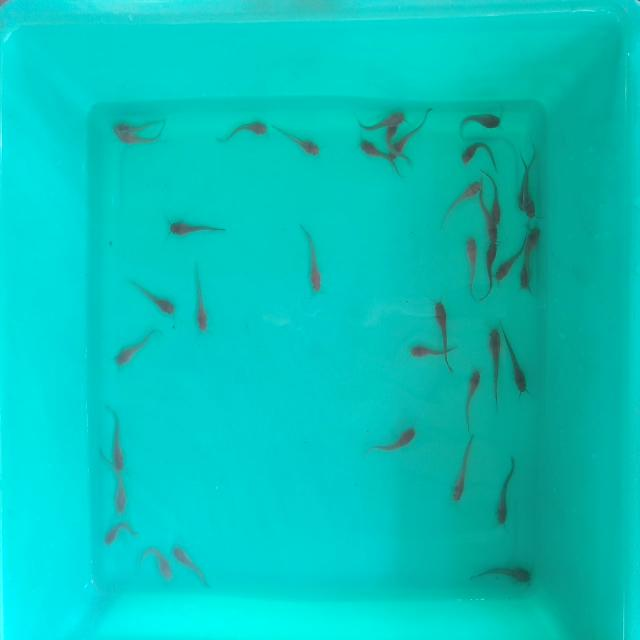lele: (438, 172, 484, 229), (126, 276, 180, 322), (268, 121, 324, 163), (497, 225, 535, 282), (173, 544, 215, 589), (115, 325, 159, 367), (368, 422, 422, 455), (506, 329, 530, 396), (300, 226, 323, 294), (452, 436, 474, 505), (486, 326, 503, 408), (470, 564, 534, 585), (143, 543, 177, 581), (220, 120, 268, 146), (498, 458, 516, 526), (463, 369, 482, 429), (102, 518, 135, 549), (465, 233, 479, 306), (352, 110, 408, 128), (458, 111, 508, 131), (477, 167, 504, 204), (459, 138, 496, 164), (193, 268, 208, 332), (398, 128, 429, 158), (169, 221, 226, 237), (434, 299, 450, 347), (112, 408, 124, 470), (486, 244, 498, 303), (354, 136, 380, 162), (114, 132, 160, 146), (516, 147, 530, 191), (408, 344, 446, 360), (114, 120, 159, 132), (114, 471, 126, 513), (519, 192, 536, 220), (385, 128, 398, 162)
